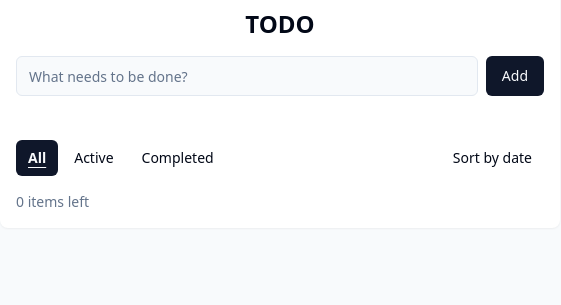
A3 — edit commit/cancel paths › Enter commits the edit
Type "orig" into the field named "New todo" at (247, 76), box [16, 56, 478, 96]
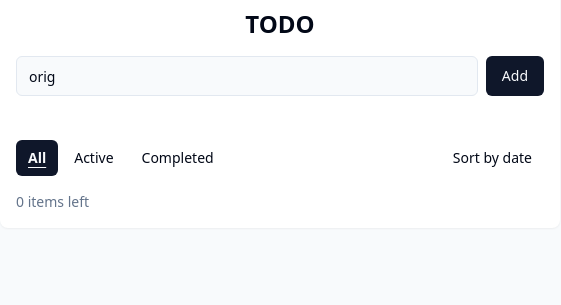
Submit the form named "New todo", box [16, 56, 544, 96]
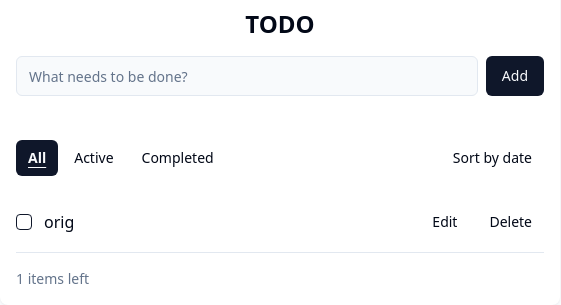
Now the text "orig" is shown, box [44, 211, 74, 233]
Click the button "Edit" at (445, 222), box [420, 204, 470, 240]
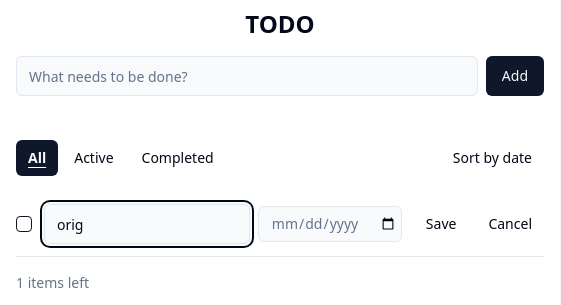
Replace the text in the field named "Edit todo" with "changed" at (147, 224), box [44, 204, 250, 244]
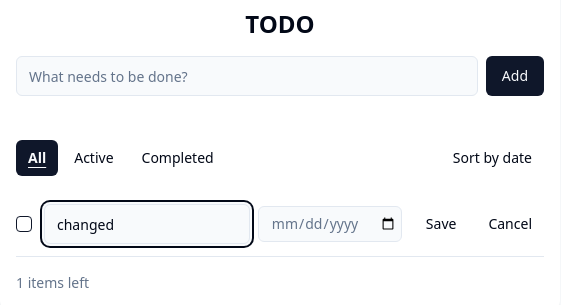
Press Enter in the field named "Edit todo", box [44, 204, 250, 244]
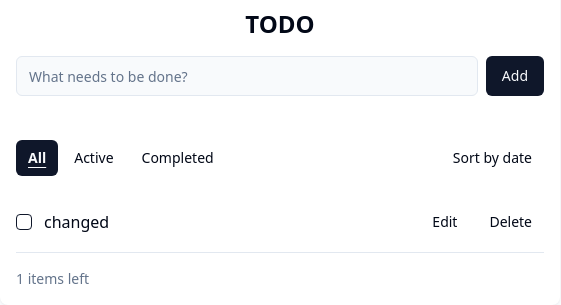
Now the text "changed" is shown, box [44, 211, 109, 233]
